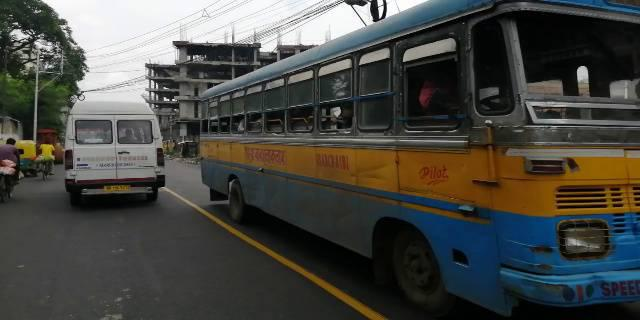Bus: (198, 5, 636, 310)
Van: (61, 91, 171, 209)
